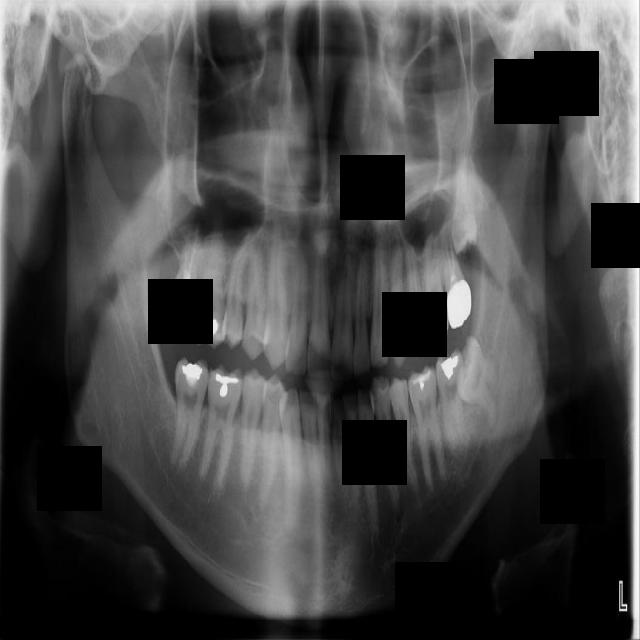52: (203, 364, 245, 430), (168, 354, 213, 414), (405, 364, 444, 420), (433, 348, 467, 404), (166, 280, 196, 338), (194, 298, 227, 349), (447, 279, 471, 330), (424, 299, 449, 347)
73: (171, 221, 206, 301), (433, 213, 466, 295), (566, 552, 574, 574)
BioHorizons Implant: (436, 212, 475, 330)
BioLife Implant: (450, 140, 478, 257)
Biomet 3i Implant: (439, 334, 510, 430)
Blue Sky Bio Implant: (435, 348, 468, 453)
Caries: (162, 220, 205, 338)
Keystone Dental Implant: (167, 356, 210, 473)
